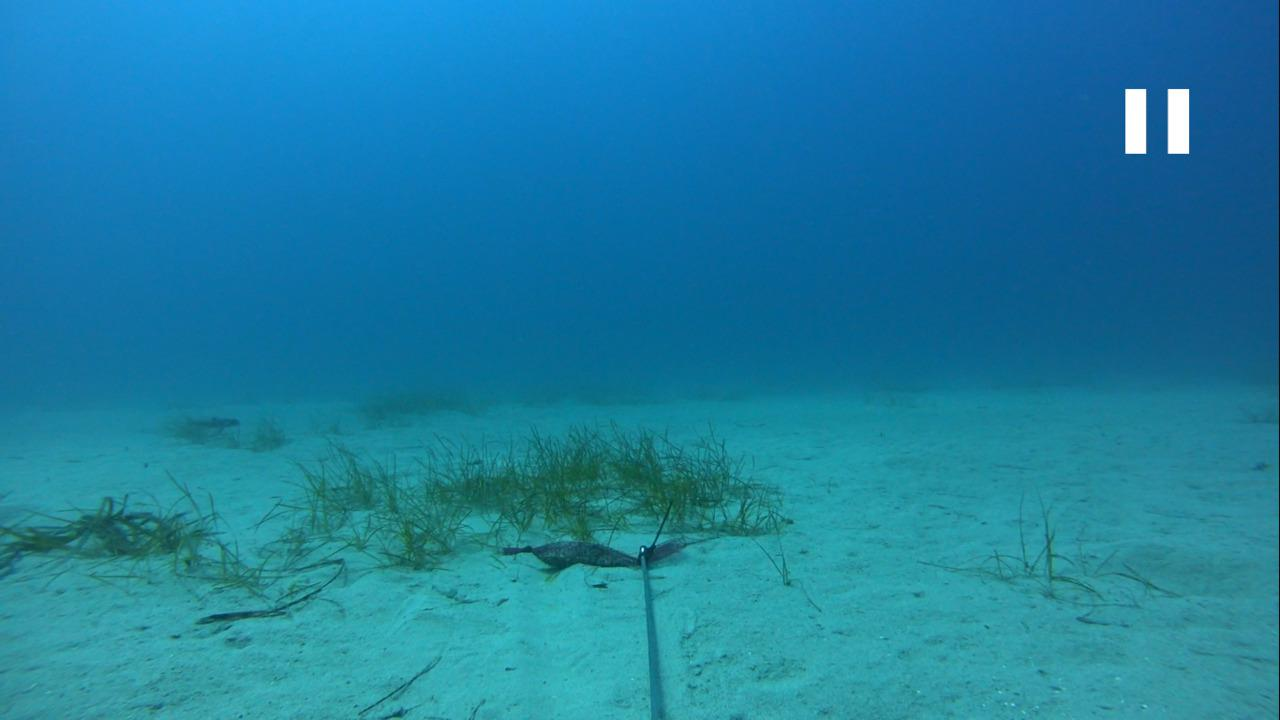dactylopterus: (181, 409, 243, 438)
